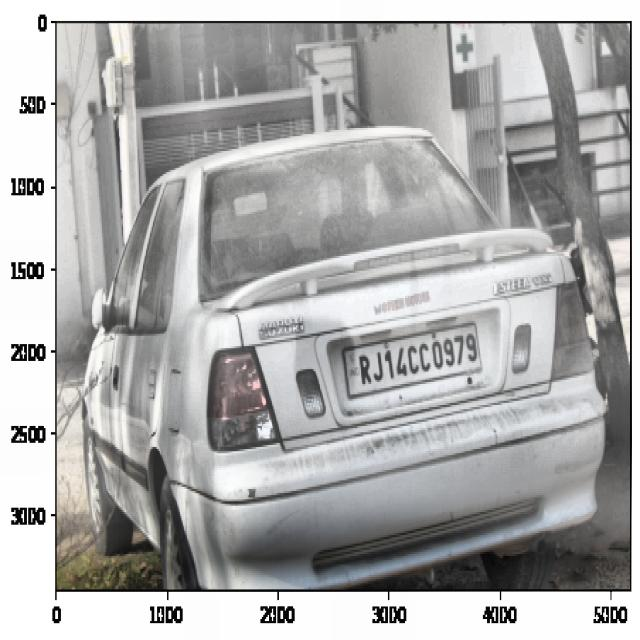license_plate: (355, 329, 482, 386)
